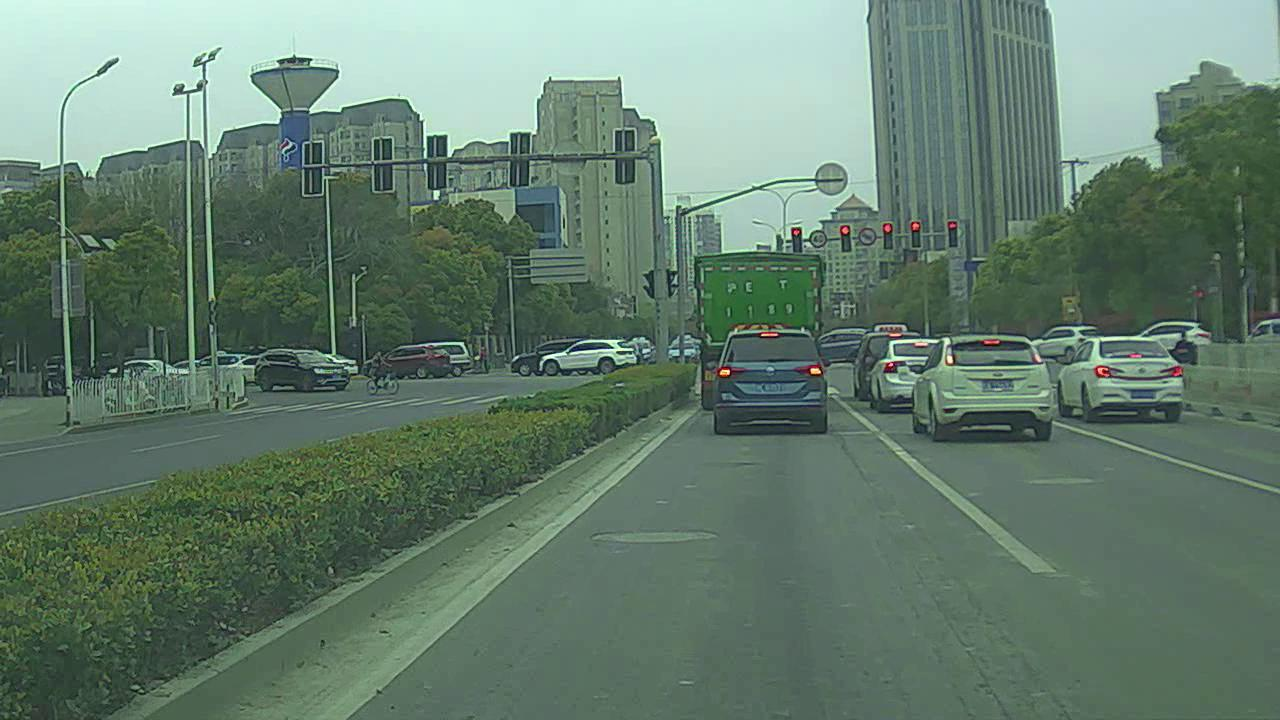traffic_light: (946, 220, 960, 250), (838, 225, 853, 252), (793, 227, 805, 254), (881, 224, 894, 248), (911, 222, 922, 249)
